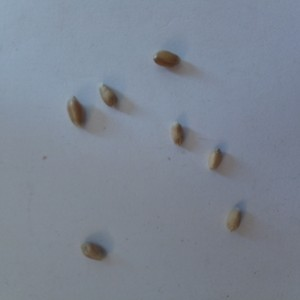trigo: (59, 94, 87, 128), (78, 239, 108, 265), (150, 47, 181, 72), (97, 81, 121, 110), (226, 206, 247, 237), (206, 147, 226, 176), (168, 121, 188, 147)
